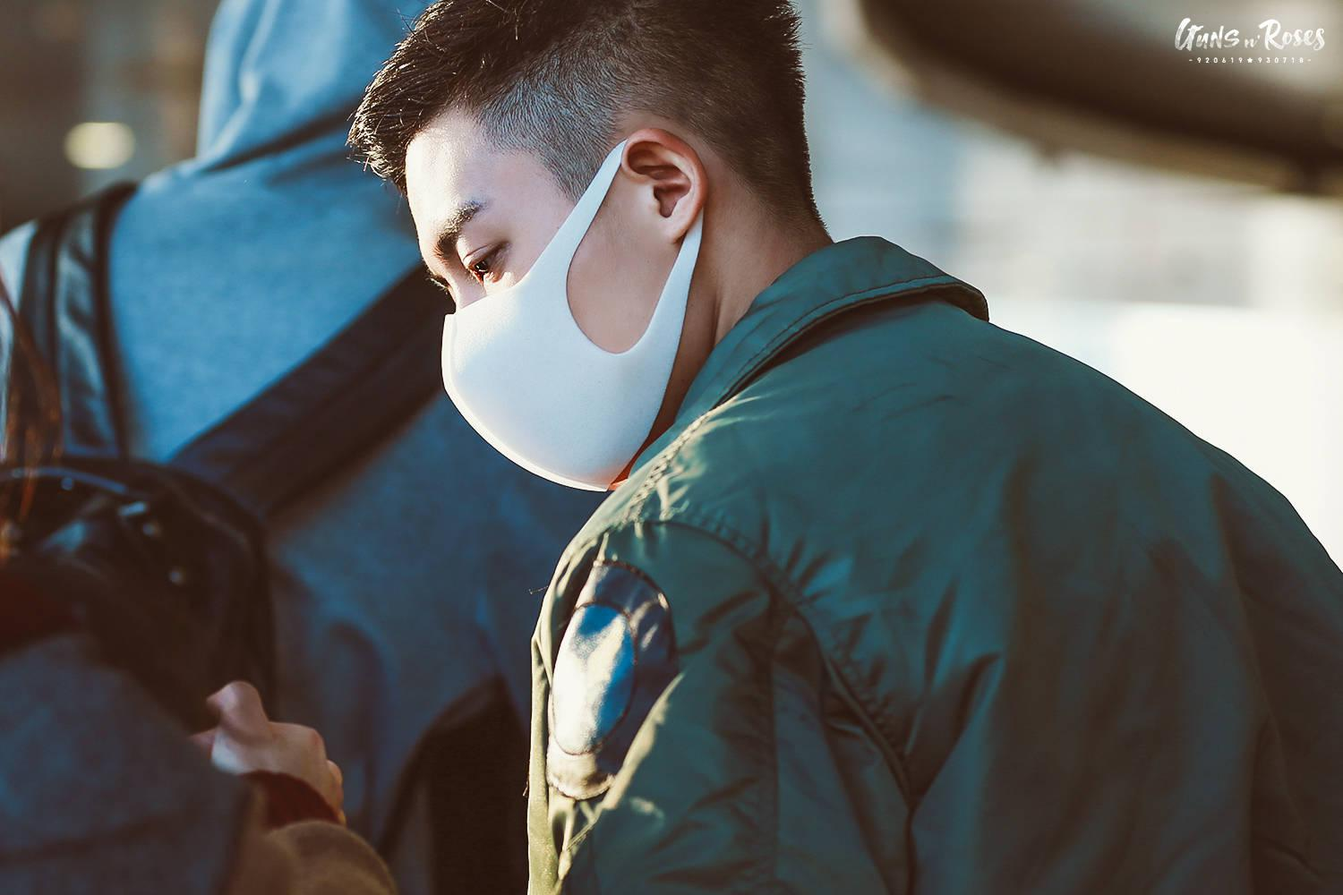OK: (404, 204, 683, 484)
